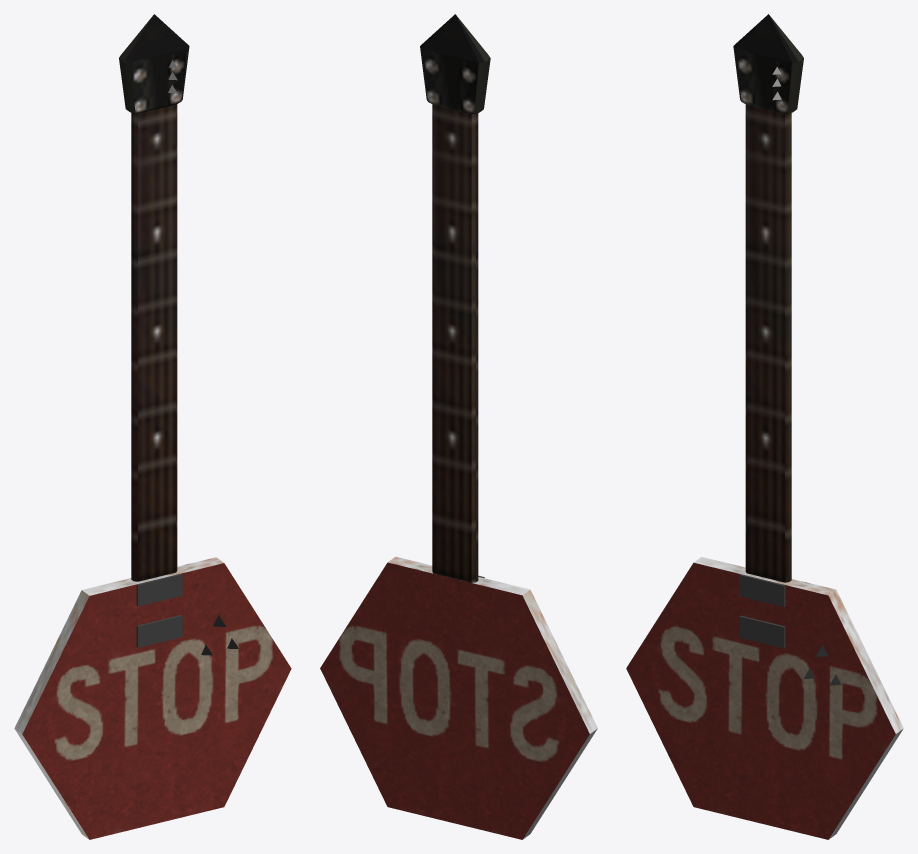
File: guitarra_pare.fbx
The picture shows the model from 3 angles, left to right: view 1: azimuth 30°, elevation 25°; view 2: azimuth 150°, elevation 25°; view 3: azimuth 330°, elevation 25°; orthographic projection.
Parts seen in each view (by area): view 1: corpo_barra; view 2: corpo_barra; view 3: corpo_barra.
Boxes of the visible parts, left/top/right/bottom form: corpo_barra: left=14, top=14, right=291, bottom=839; corpo_barra: left=320, top=14, right=597, bottom=839; corpo_barra: left=626, top=14, right=903, bottom=839.
Size of the model in its own units: 82.22 by 235 by 9.47.
